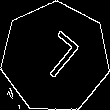L_SW: (28, 28, 83, 87)
